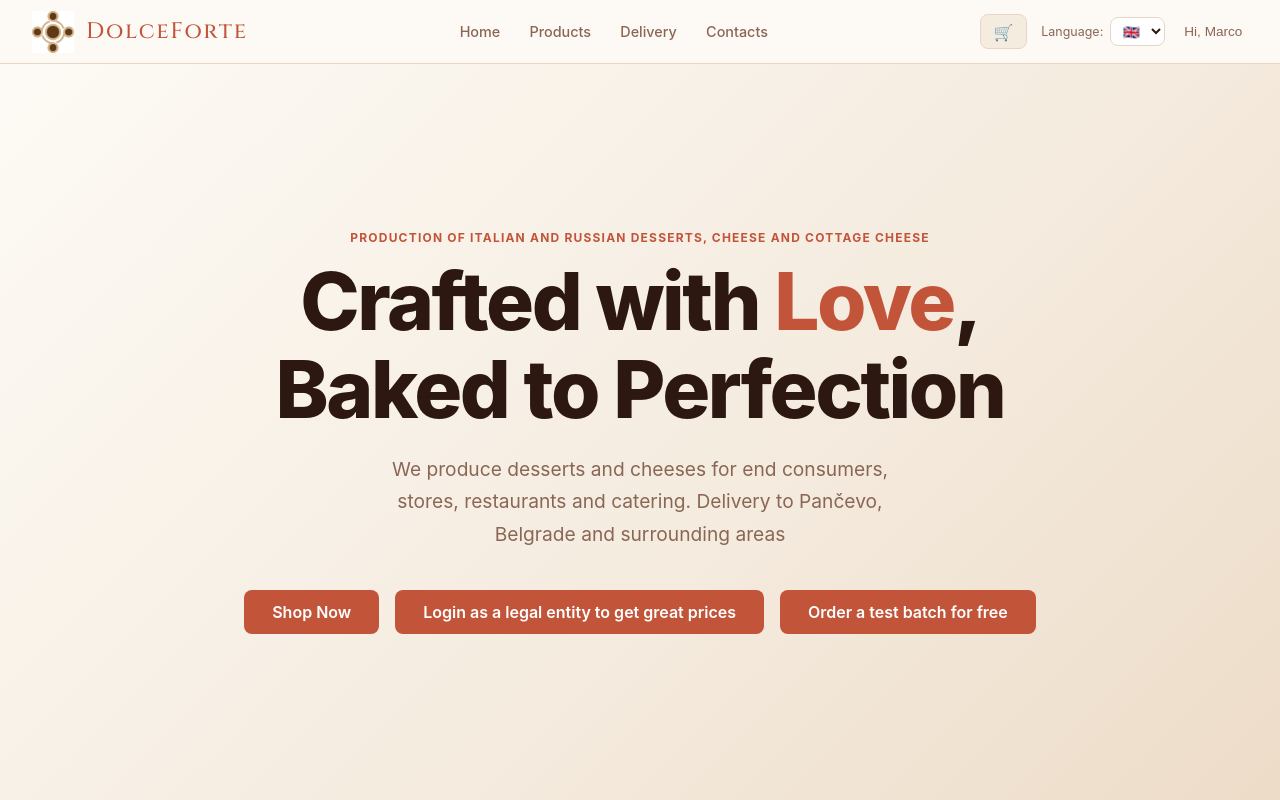
Test: App › opens profile editing when the logged-in user name is clicked
The width and height of the screenshot is (1280, 800).
Click the button "Hi, Marco".
click(1213, 32)  # box top-left (1179, 21), bottom-right (1248, 42)
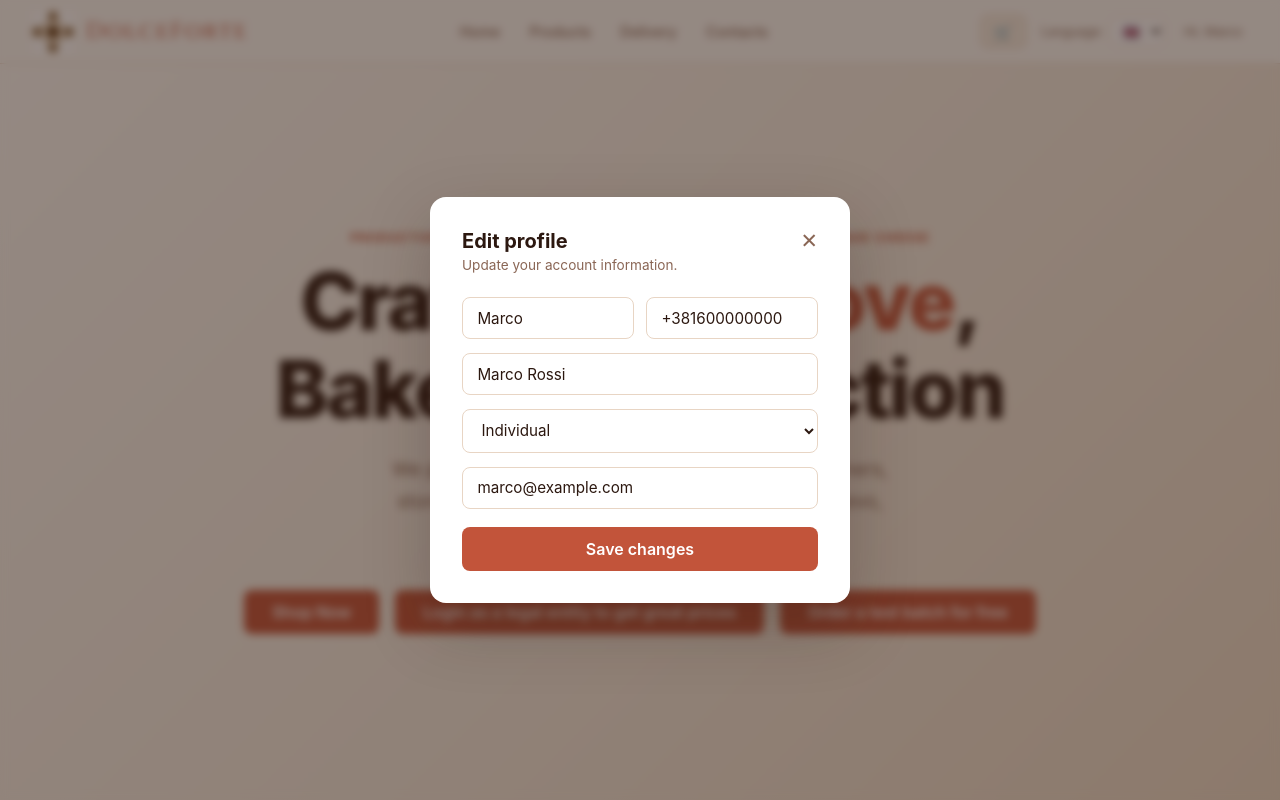
expect the heading "Edit profile" is shown: met, box top-left (462, 229), bottom-right (568, 253)
expect the 1st field showing "Marco" is shown: met, box top-left (462, 297), bottom-right (634, 339)
expect the 3rd field showing "Marco Rossi" is shown: met, box top-left (462, 353), bottom-right (818, 395)
